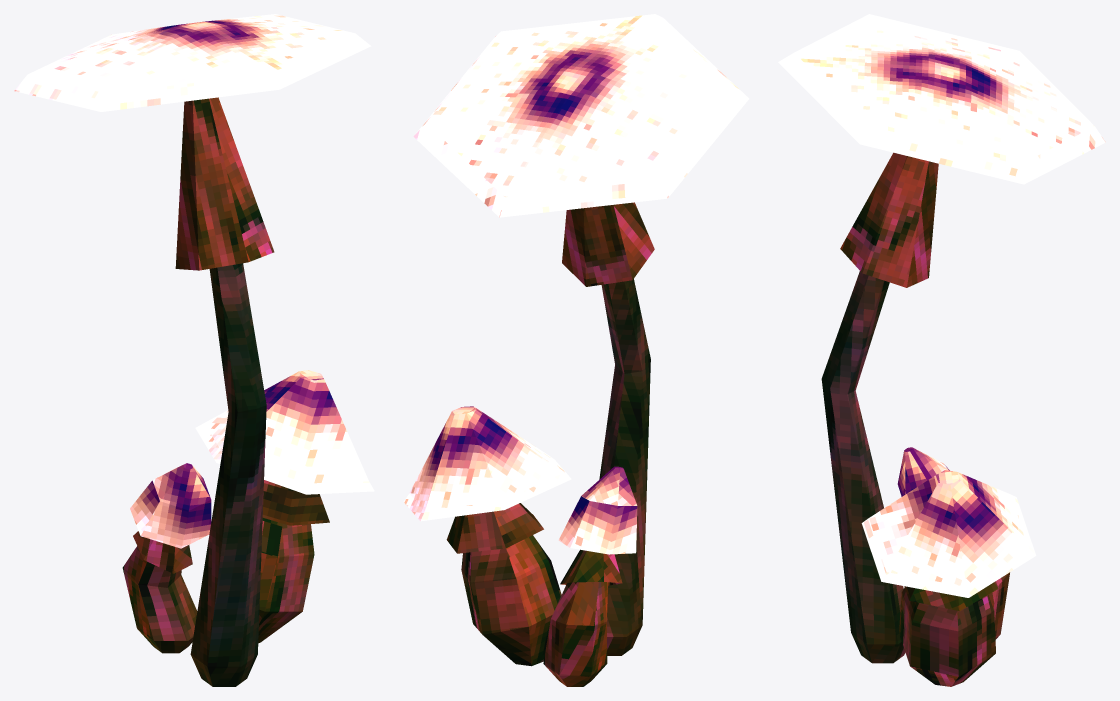
File: disc_shroom_1.glb
3 renders of one model, left to right at view 1: azimuth 30°, elevation 25°; view 2: azimuth 150°, elevation 25°; view 3: azimuth 270°, elevation 25°, orthographic. The views are drawn at different scales.
Visible parts, largest first — view 1: disc_shroom_1; view 2: disc_shroom_1; view 3: disc_shroom_1.
Boxes of the visible parts, x1,y1,x2,y2 form: disc_shroom_1: (14,14,374,686); disc_shroom_1: (403,14,749,686); disc_shroom_1: (778,14,1105,686).
Size of the model in its own units: 13.46 by 26.51 by 13.08.
1 material, 1 textured.
